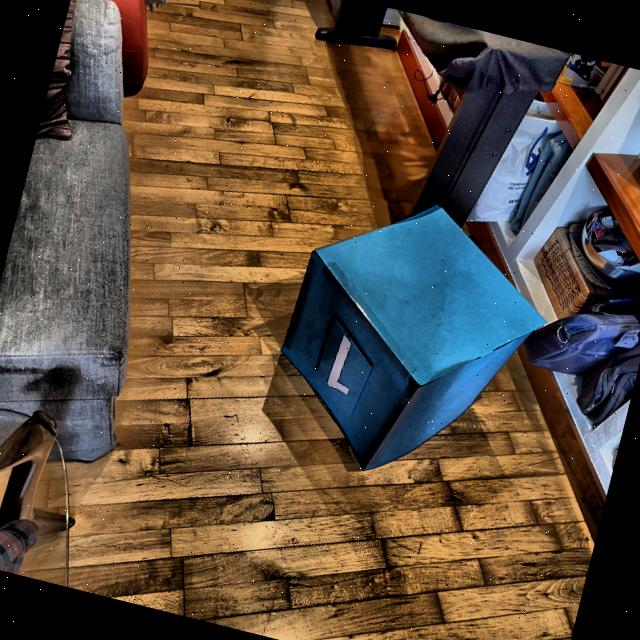blue box: (254, 171, 568, 509)
one: (322, 330, 366, 400)
